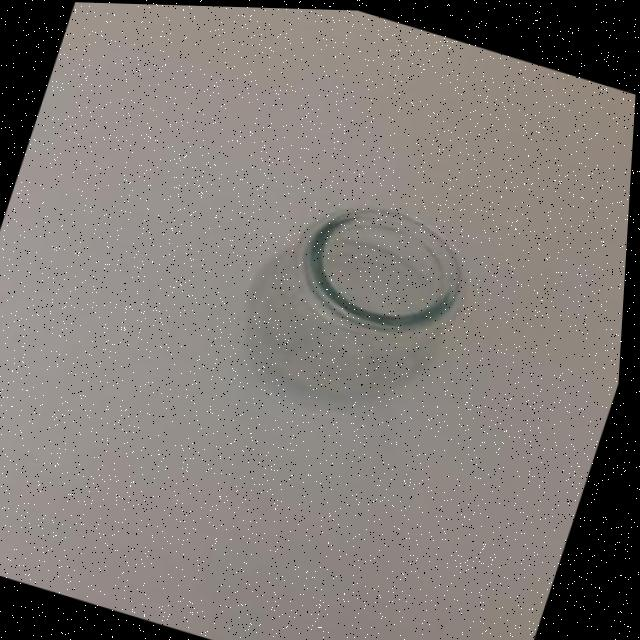glass: (274, 179, 494, 355)
